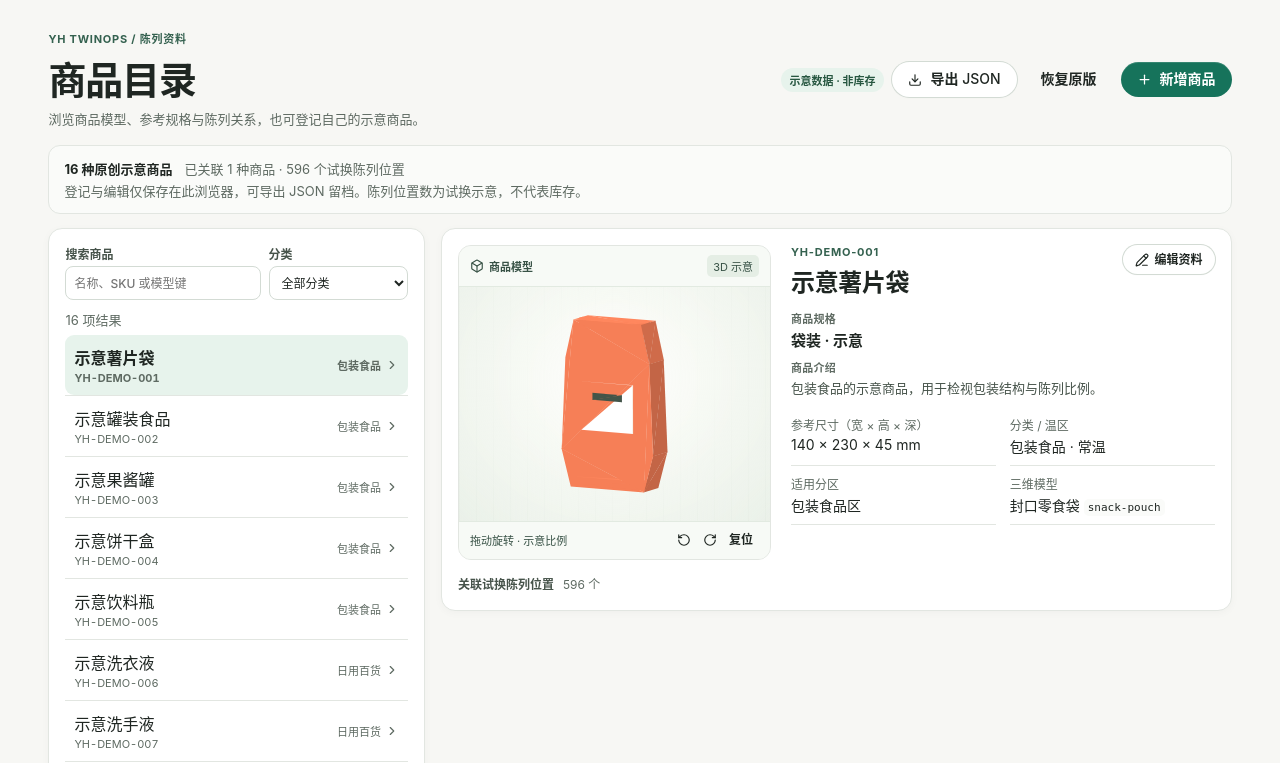
Test: filters by normalized search and category, and labels pilot placements as non-inventory
Expected: the text "已关联 1 种商品 · 596 个试换陈列位置" is shown, [184,159,405,178]
Type " yh-demo-001 " into the search field labelled "搜索商品". click: point(163, 283)
box: [65,266,260,300]
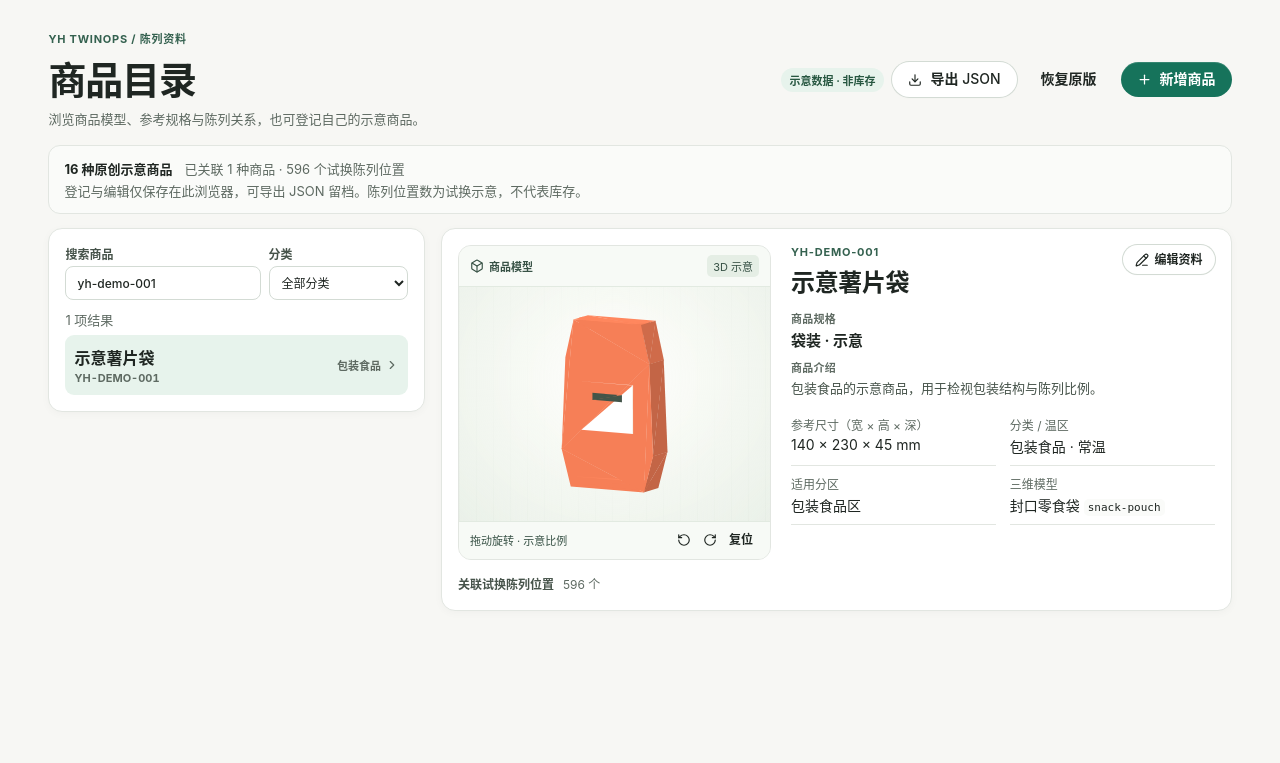
Expected: the text "596 个" is shown, [563,576,600,594]
Now the text "1 项结果" is shown, box [65,312,113,328]
Select "果蔬" in the dropdown labelled "分类". click: point(338, 283)
box: [268,266,408,300]
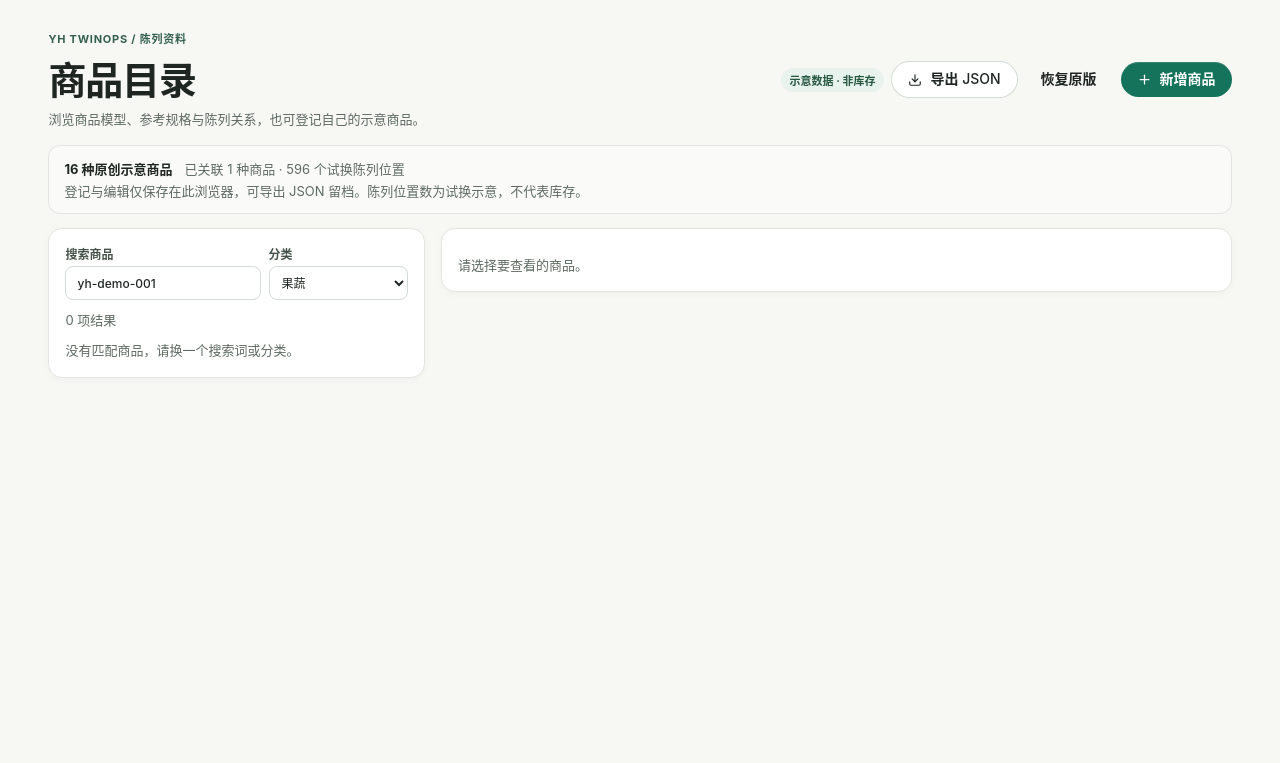
Now the text "0 项结果" is shown, box [65,312,116,328]
Clear the search field labelled "搜索商品". click: point(163, 283)
box: [65,266,260,300]
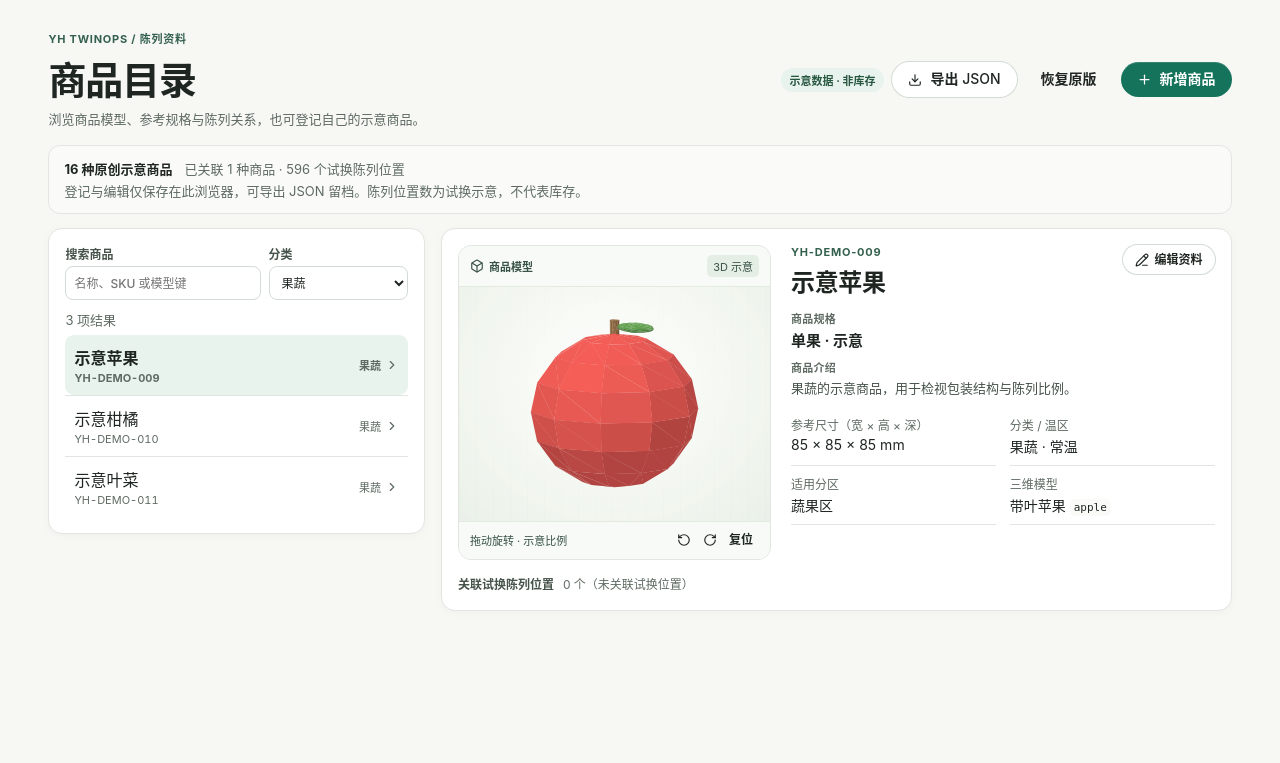
Now the text "3 项结果" is shown, box [65,312,116,328]
Now the text "0 个（未关联试换位置）" is shown, box [563,576,694,594]
